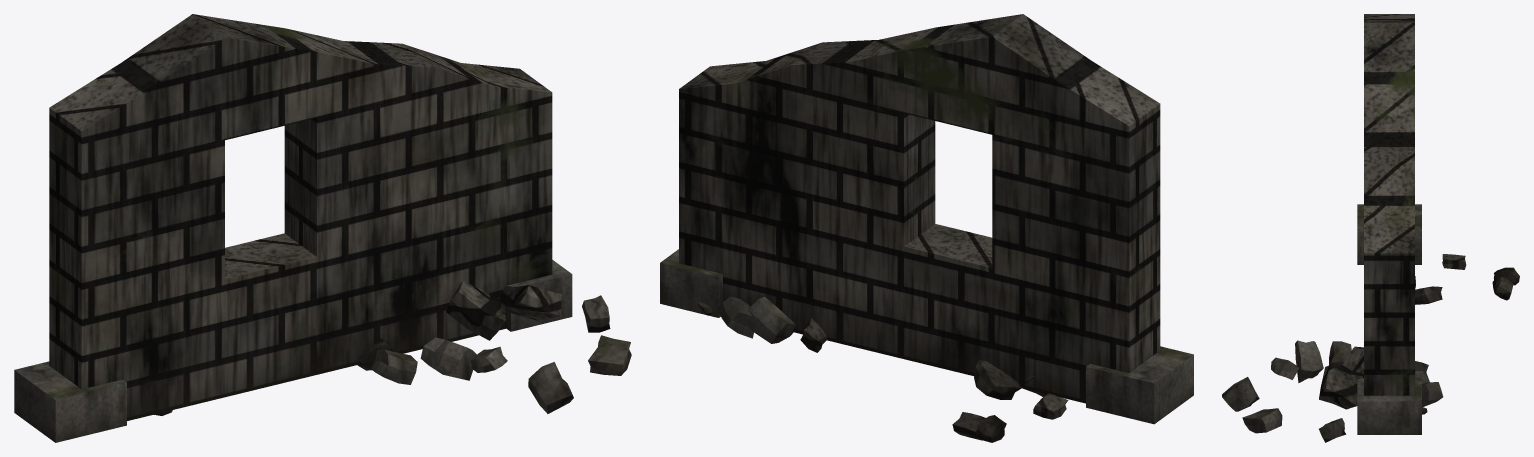
The model's file is ruin_wall_a.glb.
3 views of the same model, side by side, from view 1: azimuth 30°, elevation 25°; view 2: azimuth 150°, elevation 25°; view 3: azimuth 270°, elevation 25° (orthographic). The views are drawn at different scales.
Visible parts, largest first — view 1: ruin_wall_a; view 2: ruin_wall_a; view 3: ruin_wall_a.
Boxes of the visible parts, left/top/right/bottom form: ruin_wall_a: left=14, top=14, right=631, bottom=442; ruin_wall_a: left=660, top=14, right=1193, bottom=442; ruin_wall_a: left=1222, top=14, right=1519, bottom=442.
Bounding box in the file's own units: 5.26 × 3.54 × 3.22.
1 material, 1 textured.
